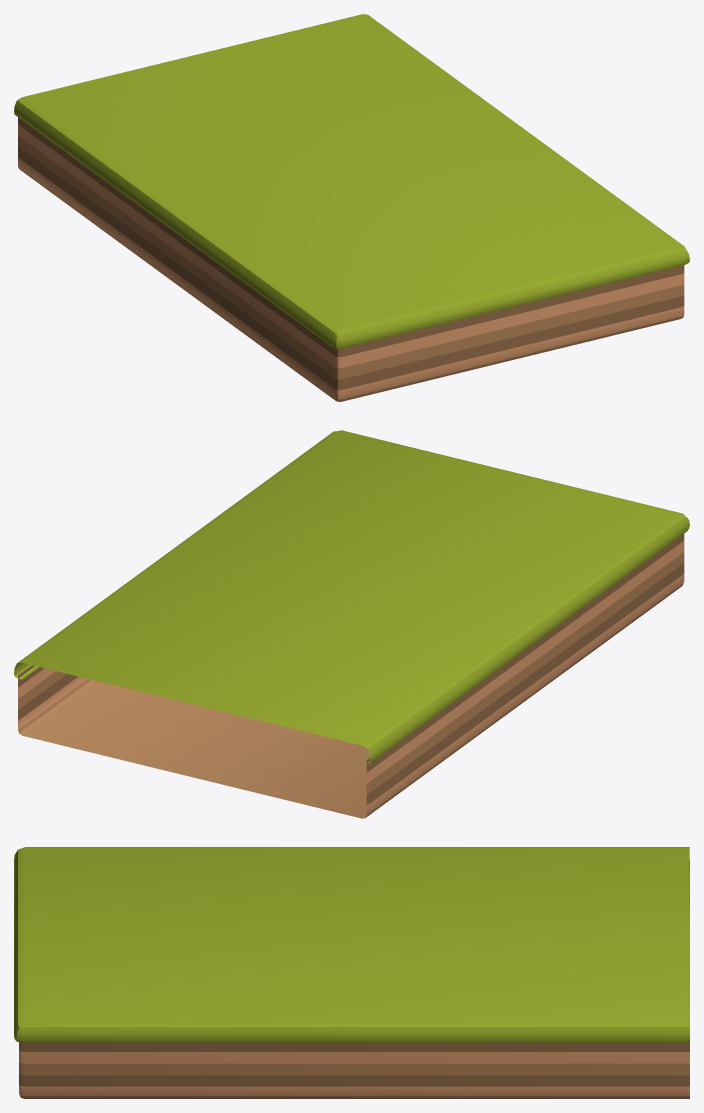
File: Ground_Grass_Start.fbx
3 views of the same model, one above another, from view 1: azimuth 30°, elevation 25°; view 2: azimuth 150°, elevation 25°; view 3: azimuth 270°, elevation 25° (orthographic). The views are drawn at different scales.
Visible parts, largest first — view 1: Cube_Grass_Single; view 2: Cube_Grass_Single; view 3: Cube_Grass_Single.
Boxes of the visible parts, left/top/right/bottom form: Cube_Grass_Single: left=14, top=14, right=689, bottom=401; Cube_Grass_Single: left=14, top=430, right=689, bottom=818; Cube_Grass_Single: left=14, top=847, right=689, bottom=1098.
Bounding box in the file's own units: 1023 × 200 × 1599.
